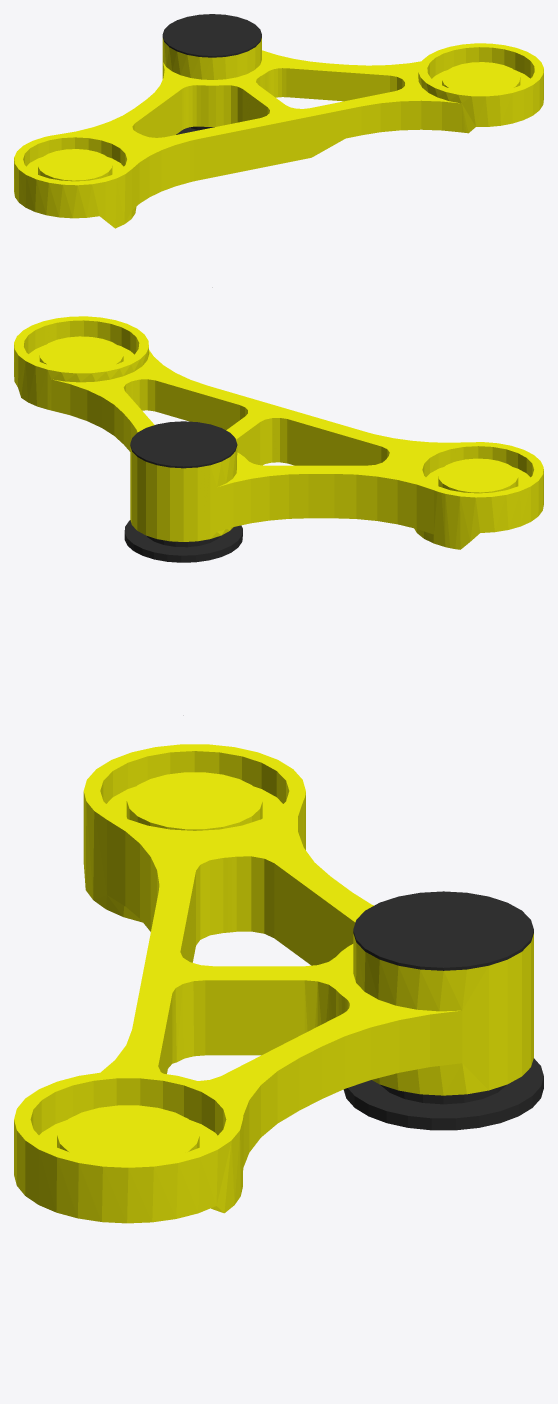
3 views of the same model, one above another, from view 1: azimuth 30°, elevation 25°; view 2: azimuth 150°, elevation 25°; view 3: azimuth 270°, elevation 25° (orthographic). The views are drawn at different scales.
Parts seen in each view (by area): view 1: node; view 2: node; view 3: node.
Part boxes in pixels (x1=…): node: x1=14, y1=14, x2=543, y2=287; node: x1=14, y1=316, x2=543, y2=715; node: x1=14, y1=744, x2=543, y2=1223.
Bounding box in the file's own units: 626 × 306 × 320.
